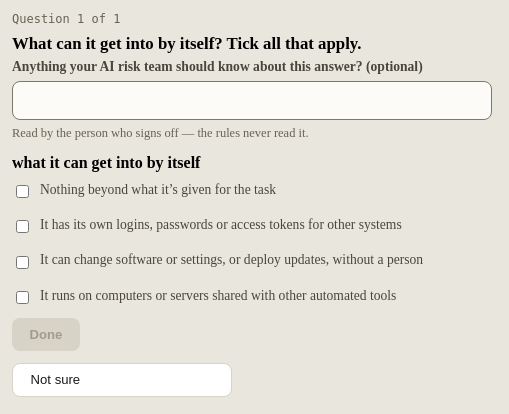
Scenario: QuestionnaireStep — multi-select (R16-E §3, D-101) › the control's own guards (R18-G) › unticking the last ticked option shuts Done again, so nothing empty can be submitted
Click the checkbox labelled "It runs on computers or servers shared with other automated tools" at (22, 297), box [16, 291, 29, 304]
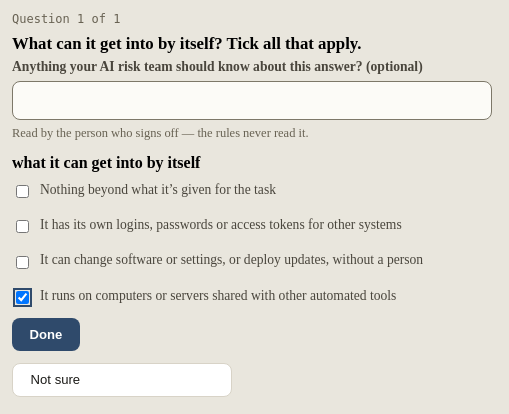
Check: the button "Done" is enabled, box [12, 318, 80, 351]
Click the checkbox labelled "It runs on computers or servers shared with other automated tools" at (22, 297), box [16, 291, 29, 304]
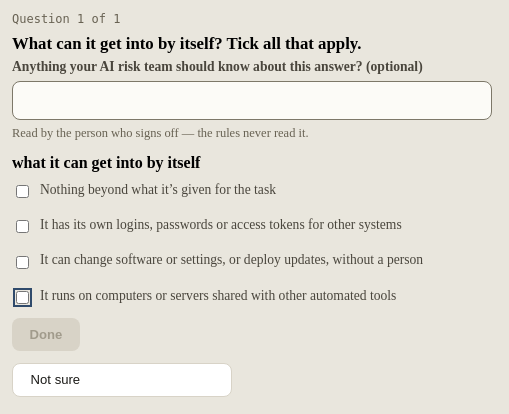
Check: the button "Done" is disabled, box [12, 318, 80, 351]
